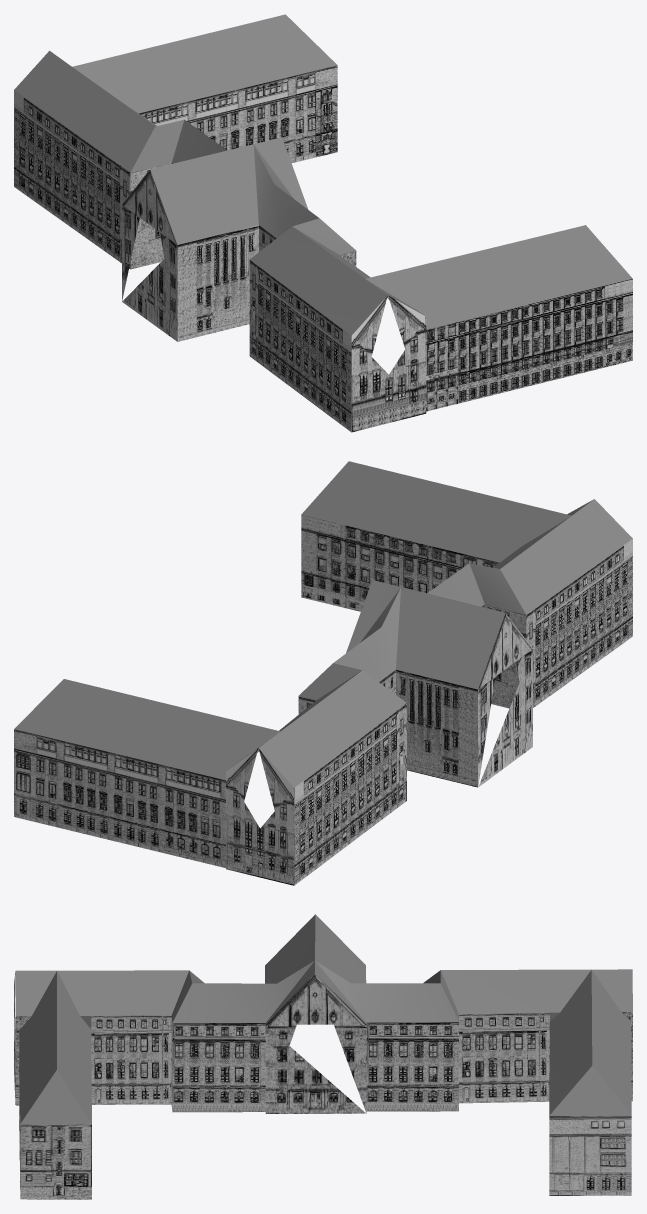
The model's file is Fritz-Foester-Bau.gltf.
The picture shows the model from 3 angles, top to bottom: view 1: azimuth 30°, elevation 25°; view 2: azimuth 150°, elevation 25°; view 3: azimuth 270°, elevation 25°; orthographic projection. The views are drawn at different scales.
Parts seen in each view (by area): view 1: Dach.1; view 2: Dach.1; view 3: Dach.1.
Boxes of the visible parts, box(x1,y1,x2,y2) form: Dach.1: box(14, 14, 632, 432); Dach.1: box(14, 461, 632, 885); Dach.1: box(14, 914, 632, 1199).
Size of the model in its own units: 67.71 by 30.51 by 122.
Materials: 21 (20 with a texture image).
